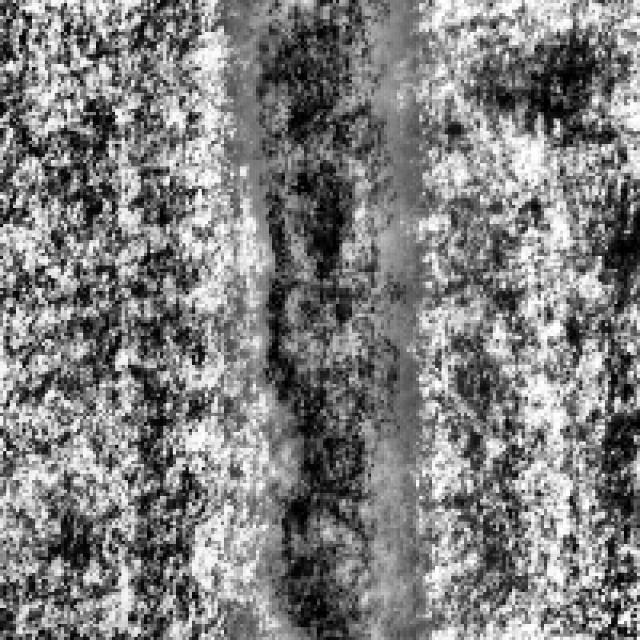Scratches: (240, 0, 419, 634)
